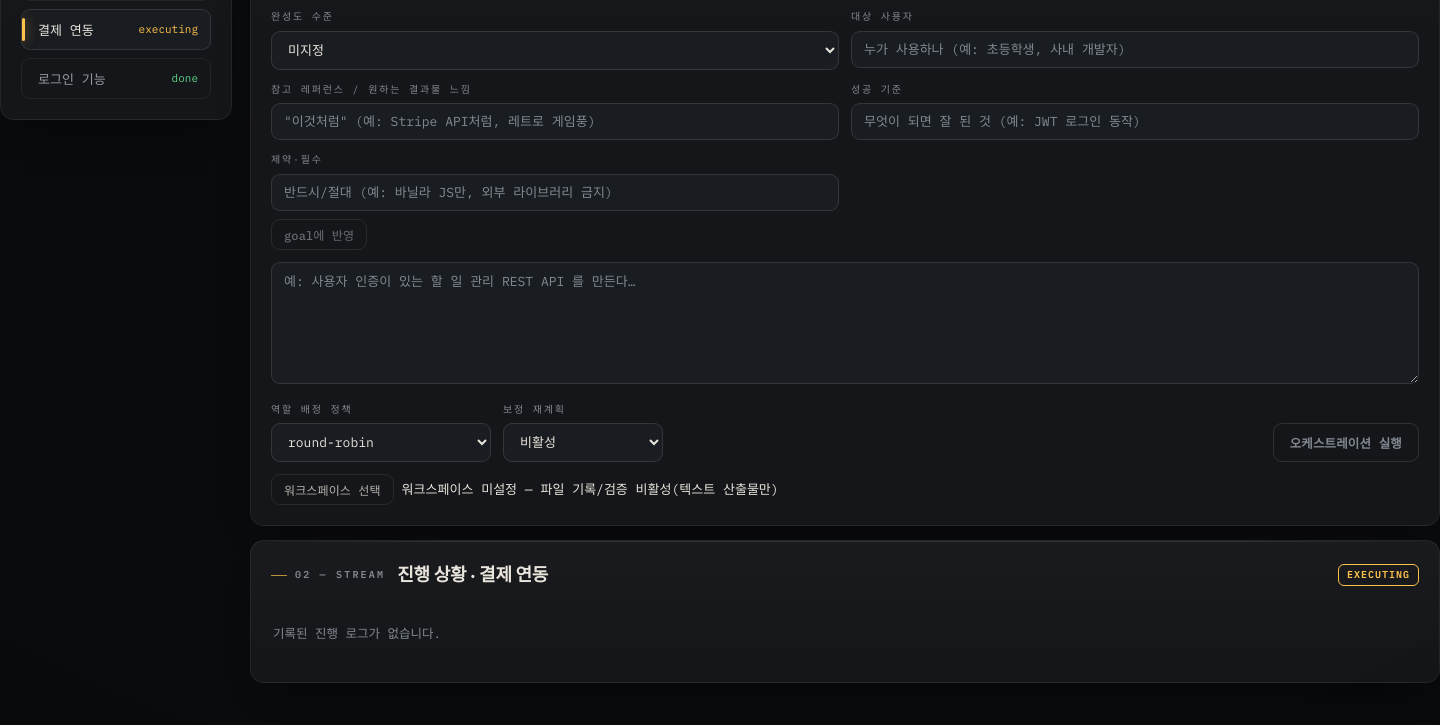
Scenario: ProjectPanel › ignores a stale snapshot load after revisiting the same project
expect the text "결제 연동" is shown: met, box x1=38 y1=20 x2=94 y2=38
Click the text "로그인 기능".
click(72, 78)  # box x1=38 y1=68 x2=106 y2=88
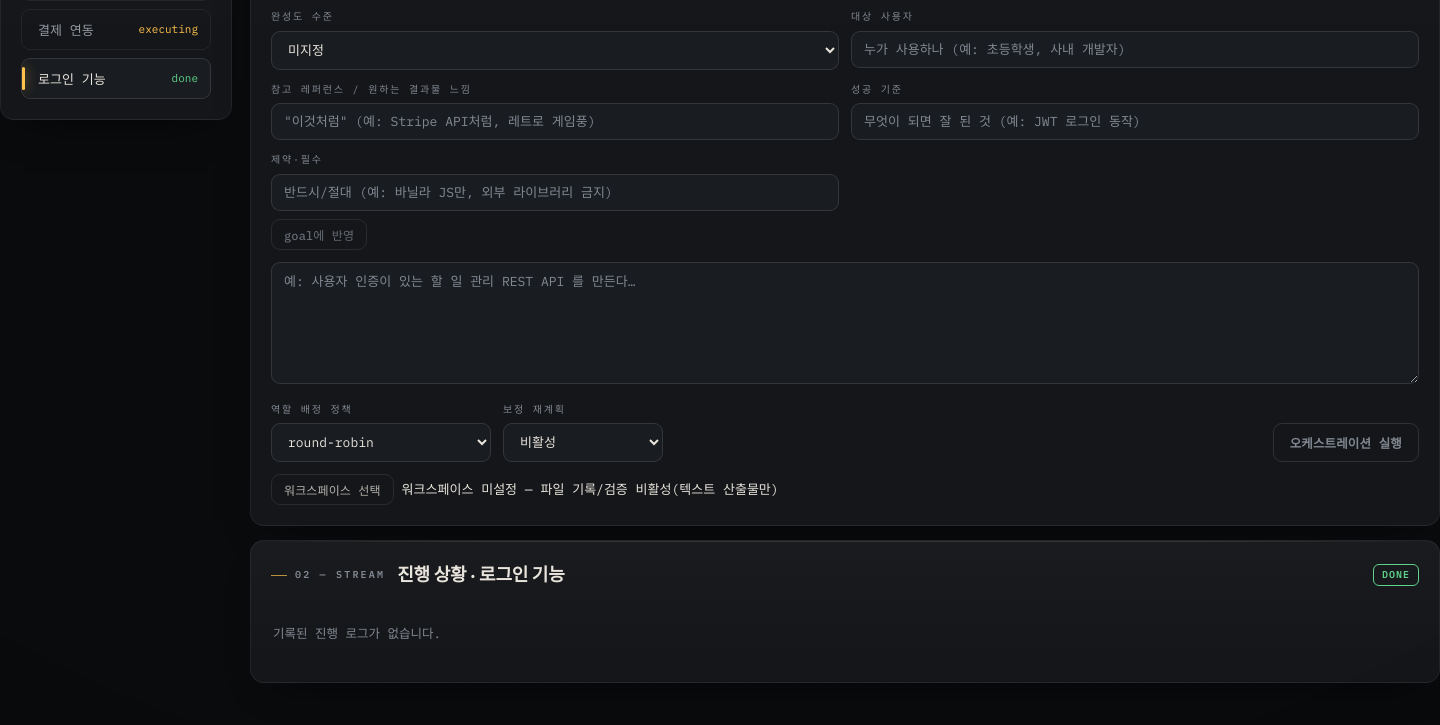
Click the text "결제 연동".
click(66, 29)  # box x1=38 y1=20 x2=94 y2=38
(page scrolled)
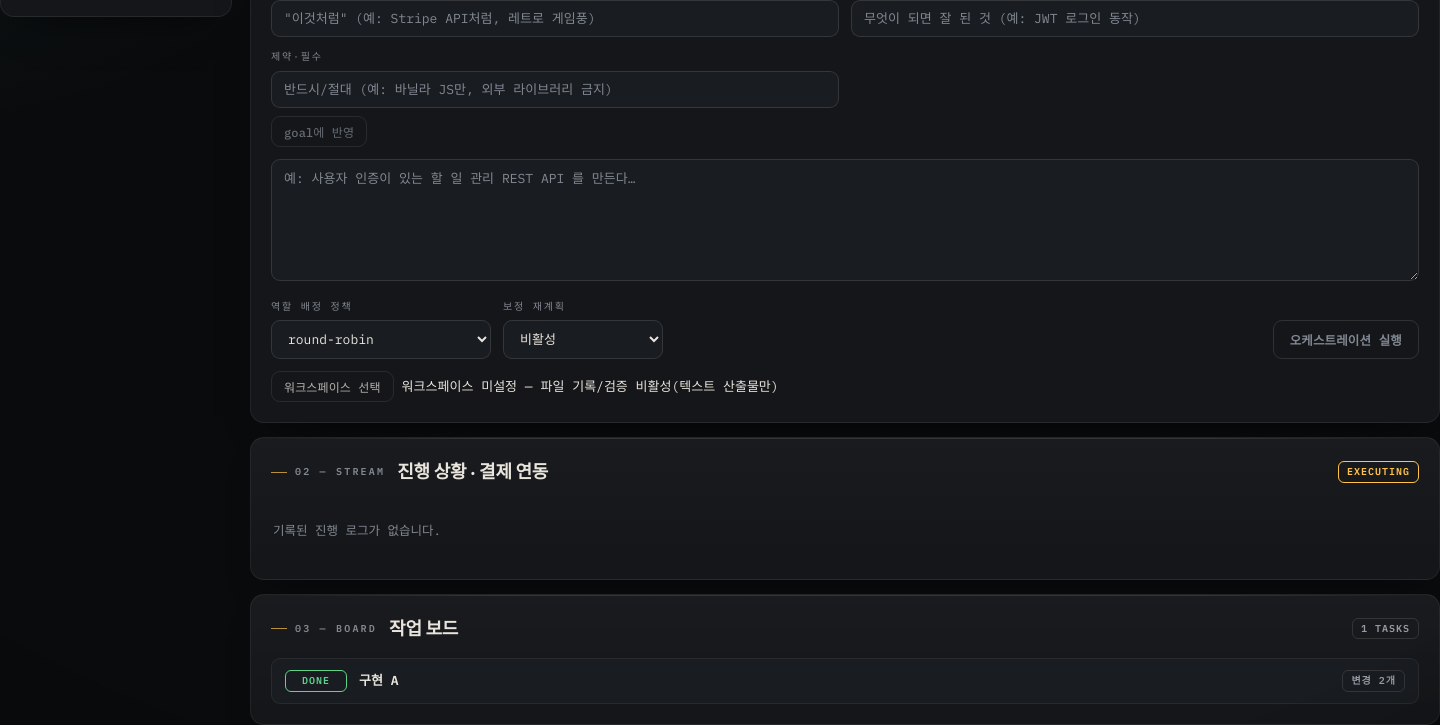
expect the text "변경 2개" is shown: met, box x1=1342 y1=670 x2=1405 y2=692
